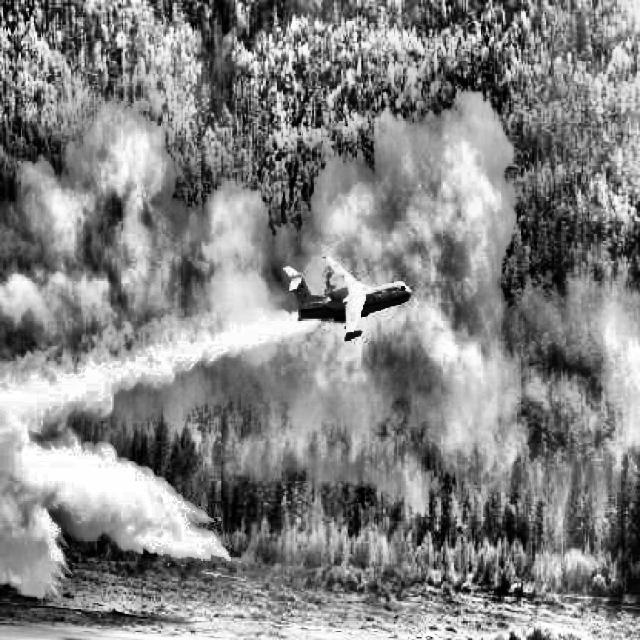Be200: (282, 254, 412, 340)
